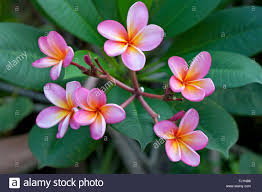frangipani: (98, 1, 165, 72)
